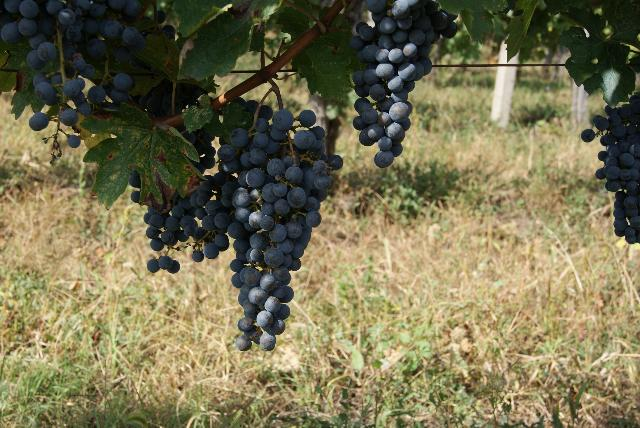grapes: (204, 109, 342, 351), (350, 0, 458, 169), (0, 0, 108, 161), (581, 95, 640, 244), (144, 189, 221, 274)
